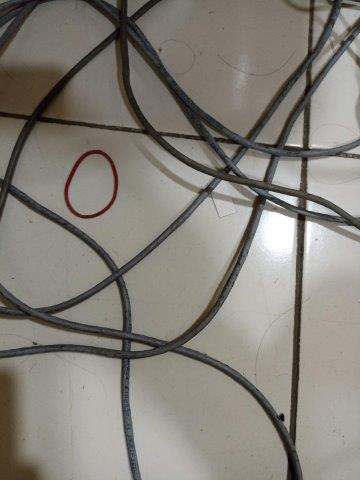karet: (64, 149, 119, 219)
